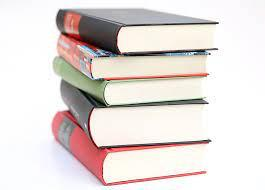book: (51, 109, 210, 185), (59, 78, 211, 148), (55, 6, 219, 55), (52, 55, 209, 106), (56, 33, 211, 80)
